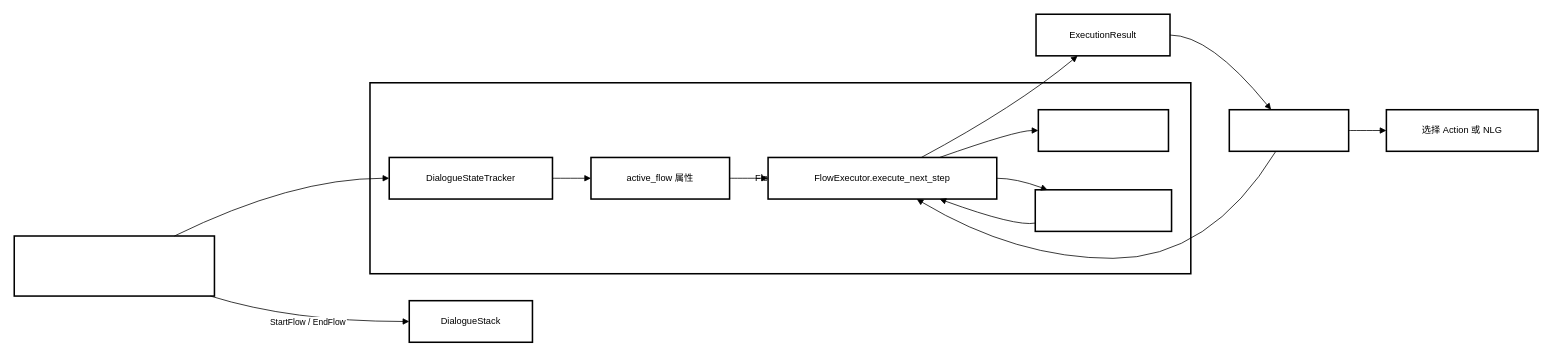
Image size: 1552x356. Some labels were removed from this diagram. The shapes that lost their labels are listed below. From the top down, each one's centre as x and y in pixels, then its label:
(1103,130): Flow 定义 Flow
(1288,130): 策略层 Policy
(1103,210): FlowStackFrame
(114,265): 命令处理器 CommandProcessor
